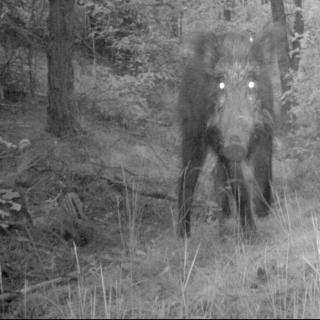Pig: (181, 15, 295, 234)
